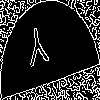Y: (25, 25, 51, 76)
